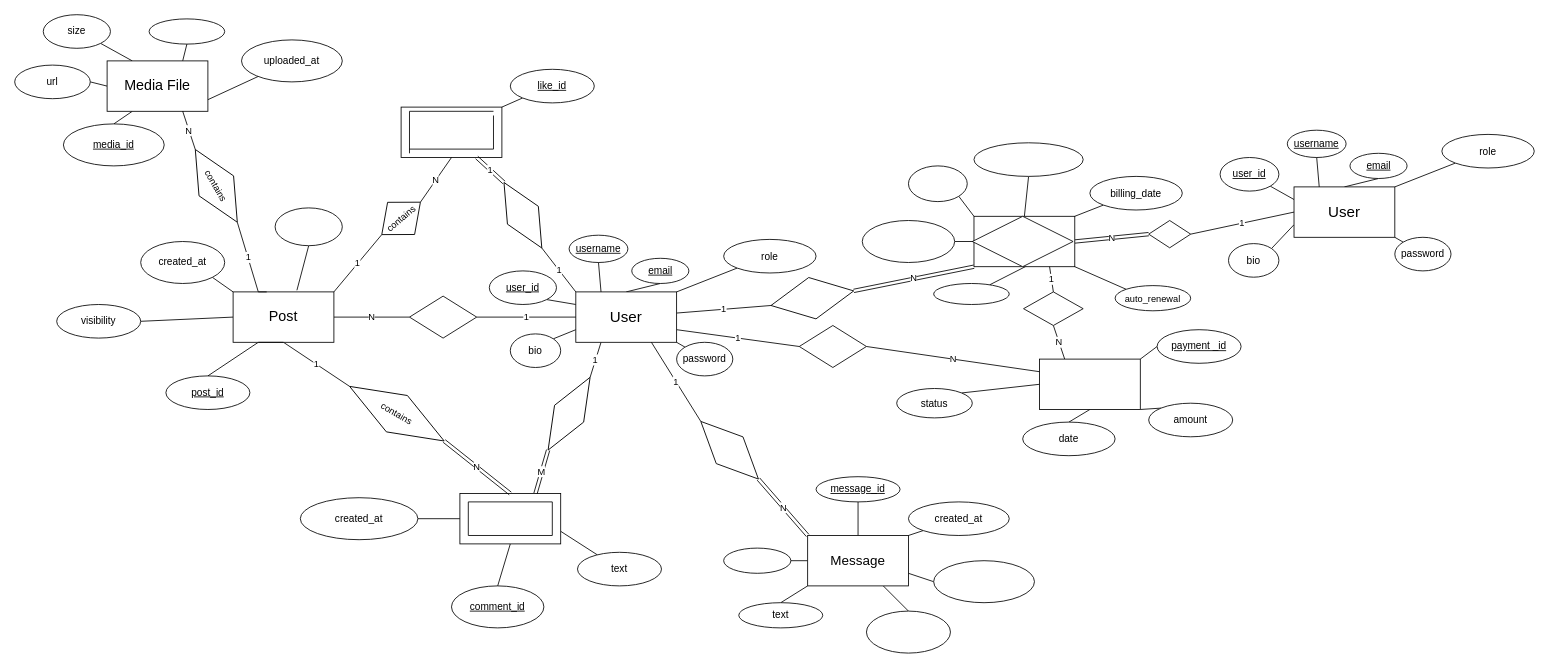
The diagram is 1549 pixels wide and 668 high, and some of its shapes have lost their labels. Each missing label, with the centre of its shape:
active_status: pixel 908 241
caption: pixel 308 226
Comment: pixel 510 518
creates: pixel 443 316
exchanges: pixel 729 450
gives: pixel 522 215
has: pixel 1169 234
is_edited: pixel 908 631
Like: pixel 451 132
makes: pixel 832 346
Payment: pixel 1089 384
price: pixel 937 183
read_status: pixel 983 581
requires: pixel 1053 308
sent_at: pixel 757 560
start_date: pixel 971 293
Subsciption: pixel 1022 241
subscribes to: pixel 811 297
subscription_id: pixel 1028 159
type: pixel 186 31
writes: pixel 569 413
